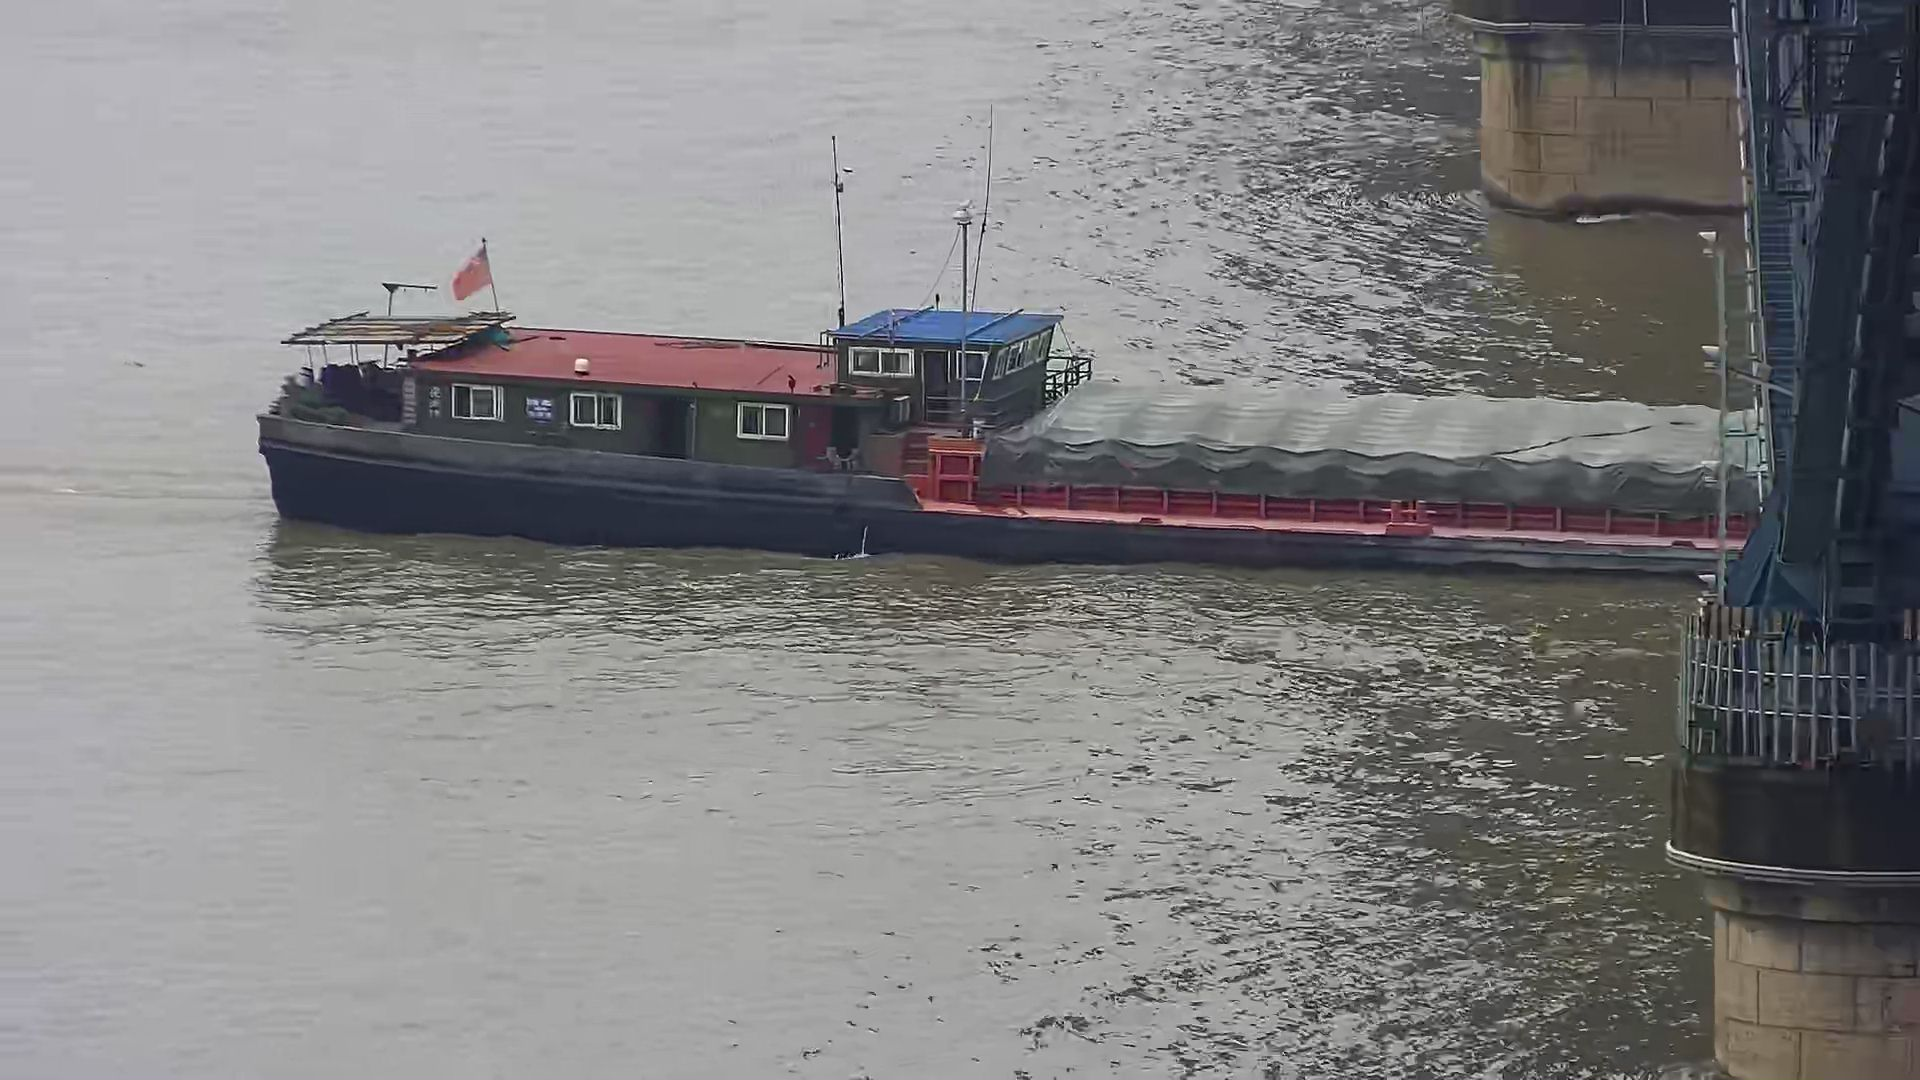bridge: (1440, 4, 1920, 1080)
ship: (257, 287, 1760, 574)
